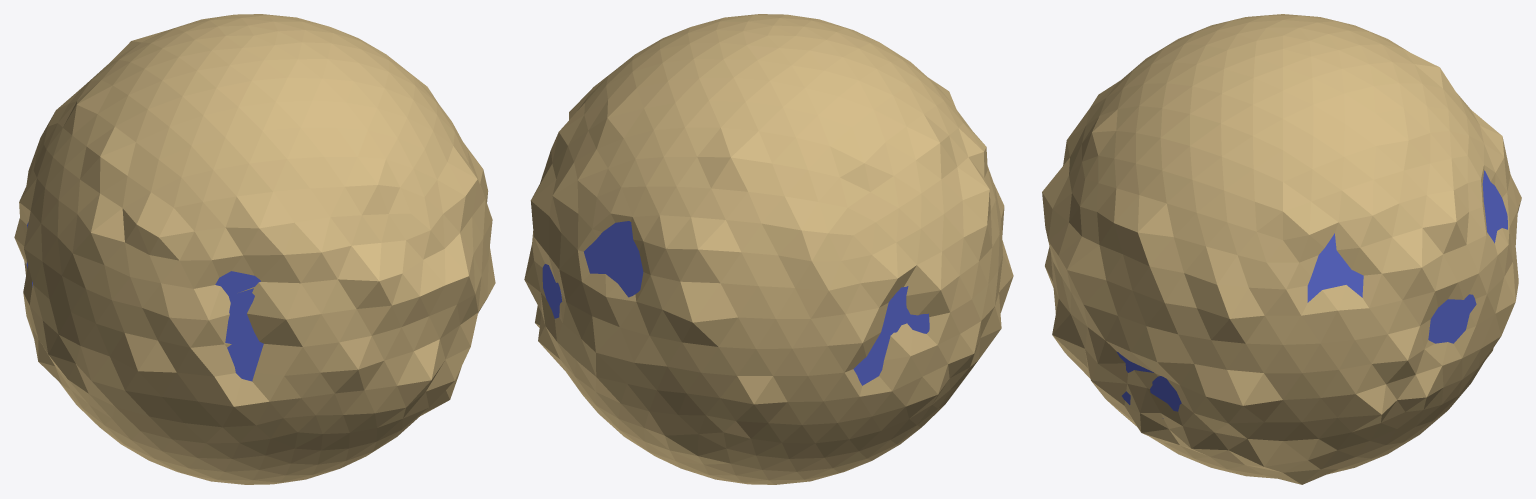
Rendered from scene_4_planet.fbx.
3 renders of one model, left to right at view 1: azimuth 30°, elevation 25°; view 2: azimuth 150°, elevation 25°; view 3: azimuth 270°, elevation 25°, orthographic.
Visible parts, largest first — view 1: Icosphere; view 2: Icosphere; view 3: Icosphere.
Boxes of the visible parts, x1,y1,x2,y2 form: Icosphere: (14,14,495,484); Icosphere: (524,14,1013,484); Icosphere: (1042,14,1521,484).
Bounding box in the file's own units: 204 × 200 × 206.
